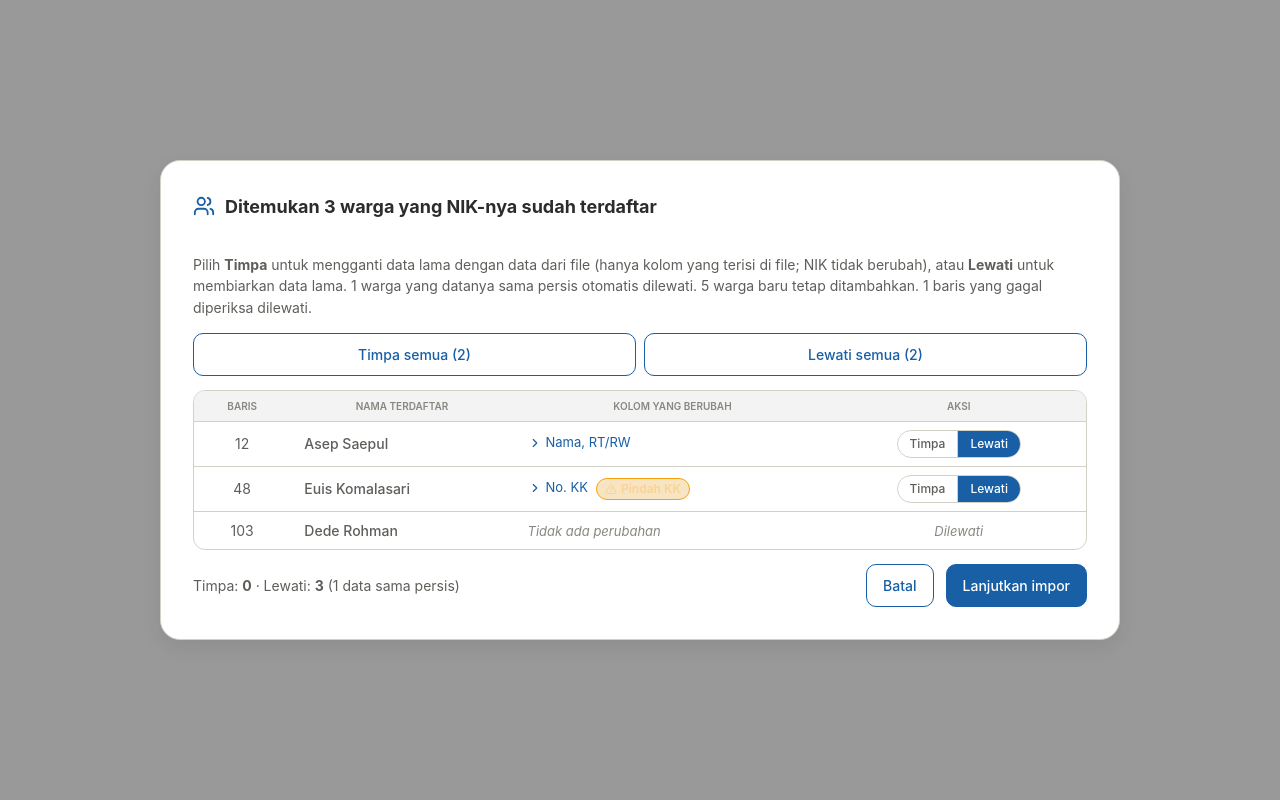
Test: ImportConflictDialog › shows the before and after values of a row on demand
Check: the text "RT 002 / RW 003" is not shown
Click the button "Nama, RT/RW": coordinates (579, 443) 528,433 -> 631,452
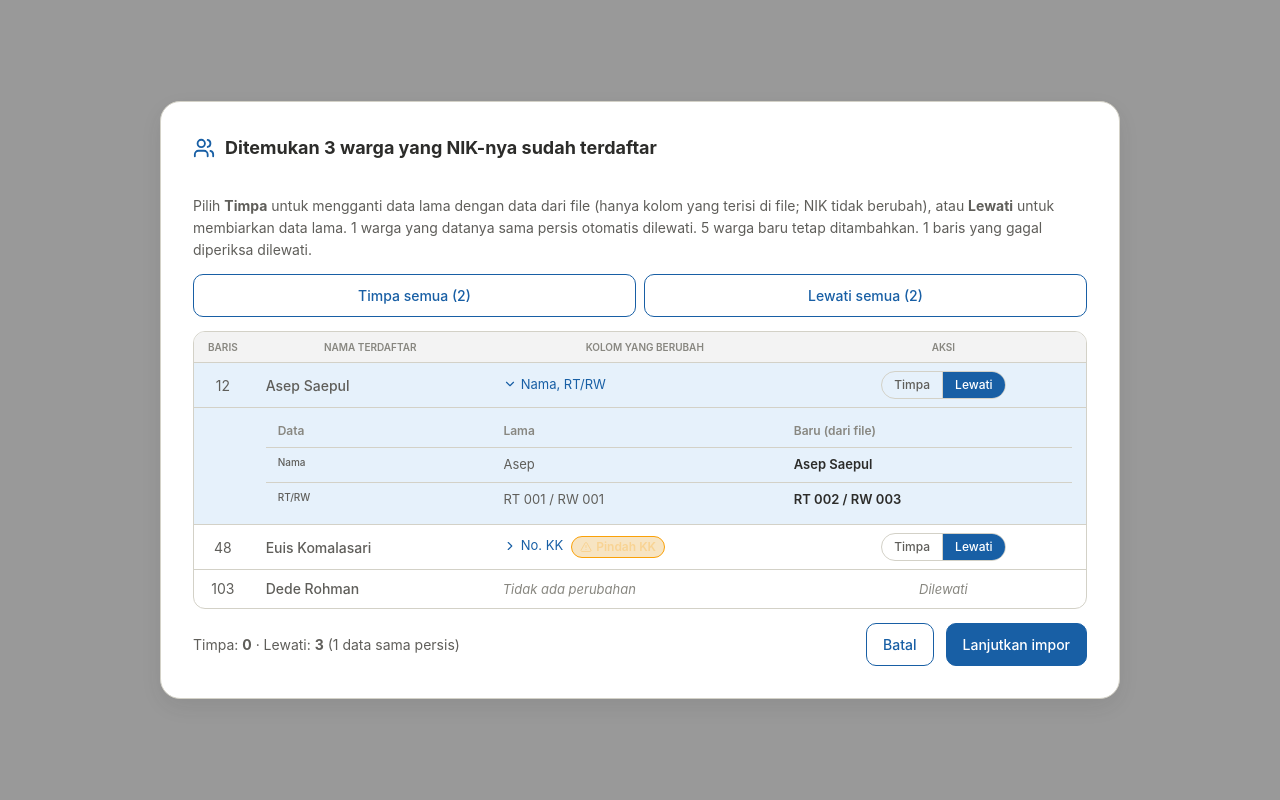
Check: the button "Nama, RT/RW" is expanded, box 503,374 -> 606,394
Check: the text "RT 001 / RW 001" is shown, box 491,482 -> 782,516
